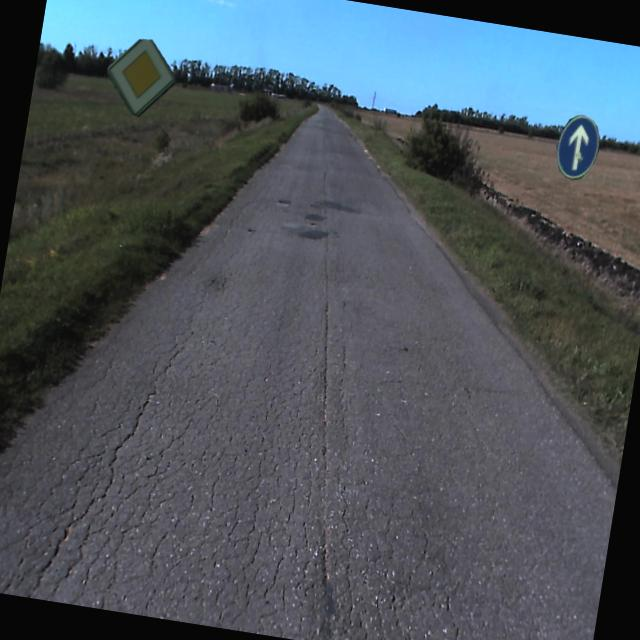road: (0, 113, 616, 640)
